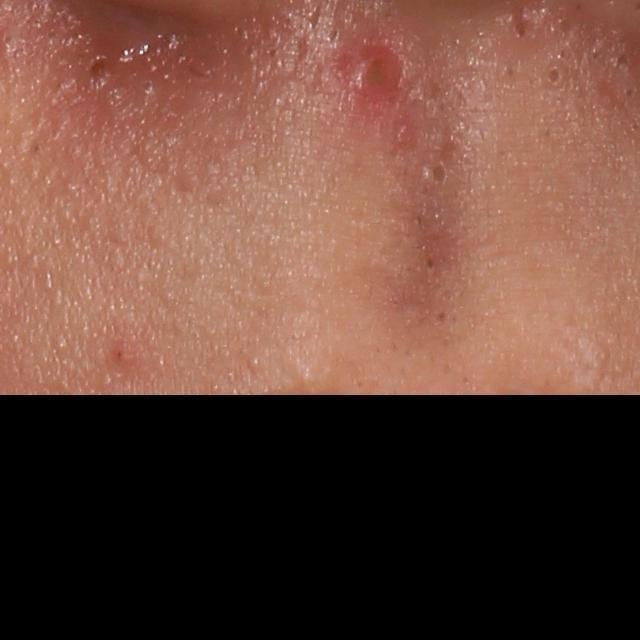comedo: (536, 60, 568, 92), (610, 50, 633, 72), (244, 352, 262, 373)
papule: (343, 44, 405, 105), (111, 341, 138, 369)
